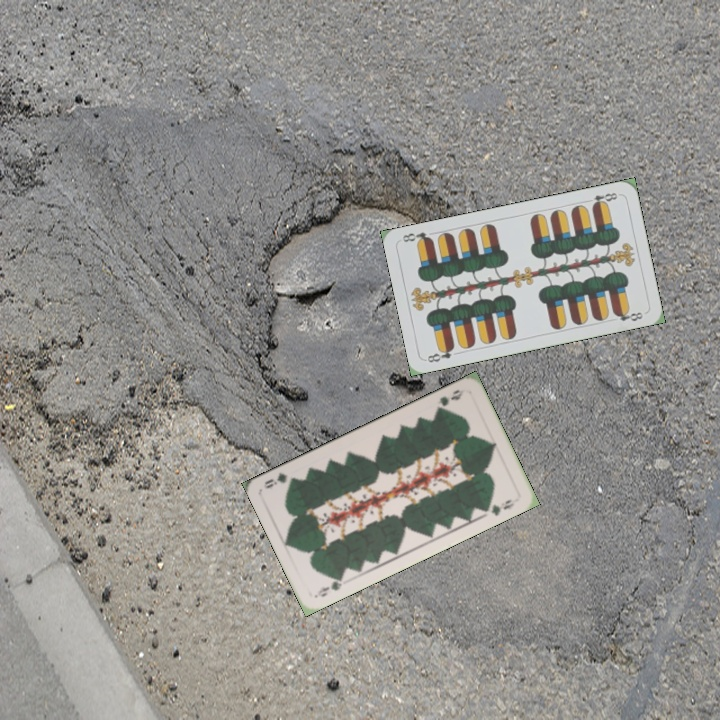E8: (582, 189, 620, 210), (423, 342, 457, 365)
G9: (432, 385, 468, 414), (312, 572, 346, 600)
